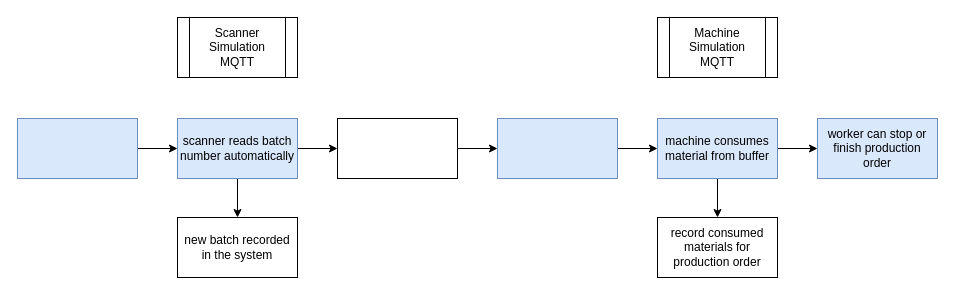
This 955x295 diagram has some shape labels left out. The shapes that lost their labels are listed below. From the top down, each one's centre as x and y in pixels, then its label:
At (x=77, y=148): "pallet with raw materials delivered".
At (x=397, y=148): "machine input buffer is filled".
At (x=557, y=148): "worker can start production order".
